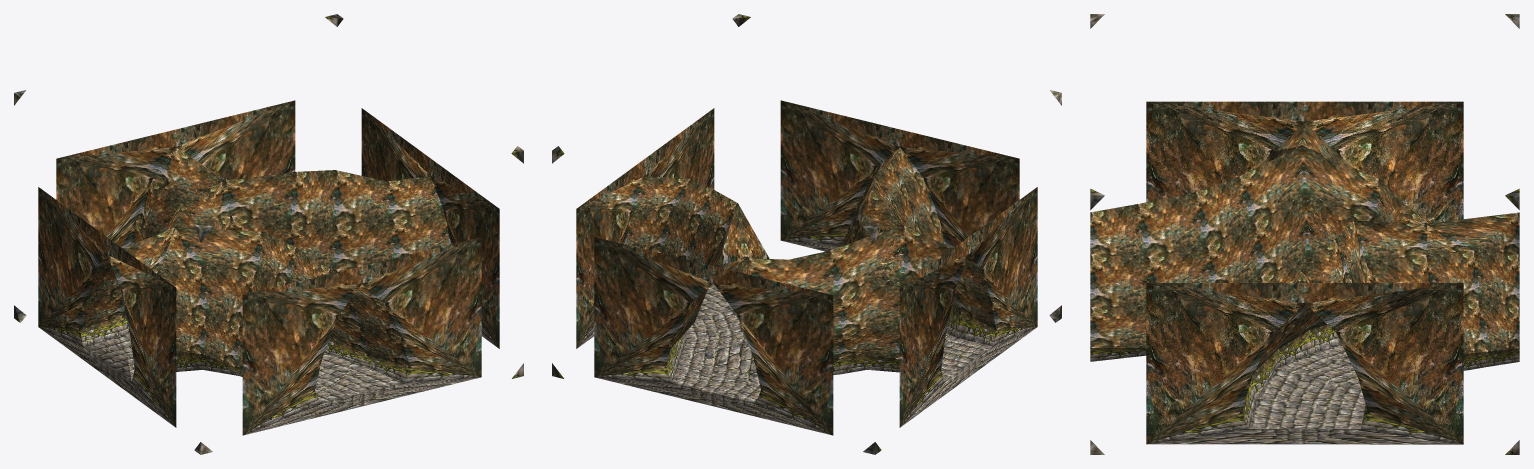
Rendered from lbc_4a.glb.
3 renders of one model, left to right at view 1: azimuth 30°, elevation 25°; view 2: azimuth 150°, elevation 25°; view 3: azimuth 270°, elevation 25°, orthographic. The views are drawn at different scales.
Visible parts, largest first — view 1: lbc_4a-col; view 2: lbc_4a-col; view 3: lbc_4a-col.
Part boxes in pixels (<box>): lbc_4a-col: <box>14,14,523,454</box>; lbc_4a-col: <box>552,14,1061,454</box>; lbc_4a-col: <box>1090,14,1519,454</box>.
Bounding box in the file's own units: 15 × 10 × 15.
3 materials, 3 textured.
